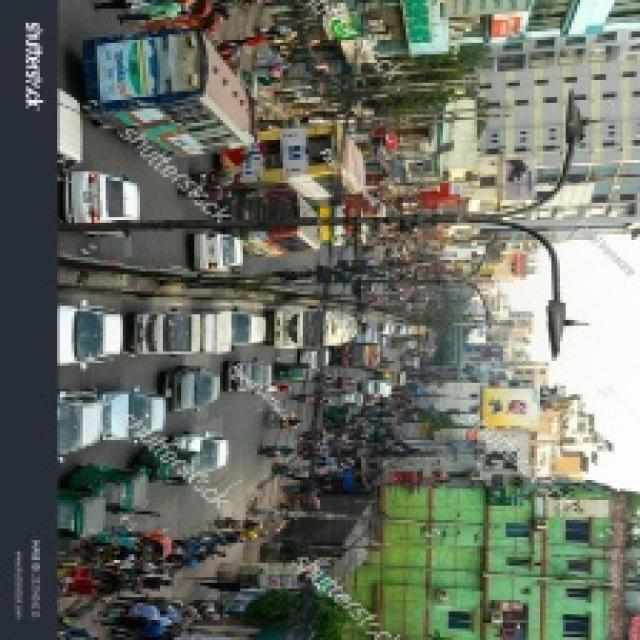bike: (260, 445, 297, 462), (217, 516, 253, 532), (292, 392, 323, 406)
car: (71, 166, 148, 241), (54, 294, 128, 371), (99, 388, 169, 445), (140, 304, 205, 364), (55, 387, 104, 458), (187, 230, 248, 276), (170, 363, 225, 414), (178, 428, 231, 478), (228, 356, 276, 400), (221, 310, 268, 352), (302, 345, 335, 372), (363, 375, 385, 399), (344, 391, 366, 407), (378, 321, 399, 336), (398, 324, 413, 336)
rickshaw: (63, 536, 142, 569)
